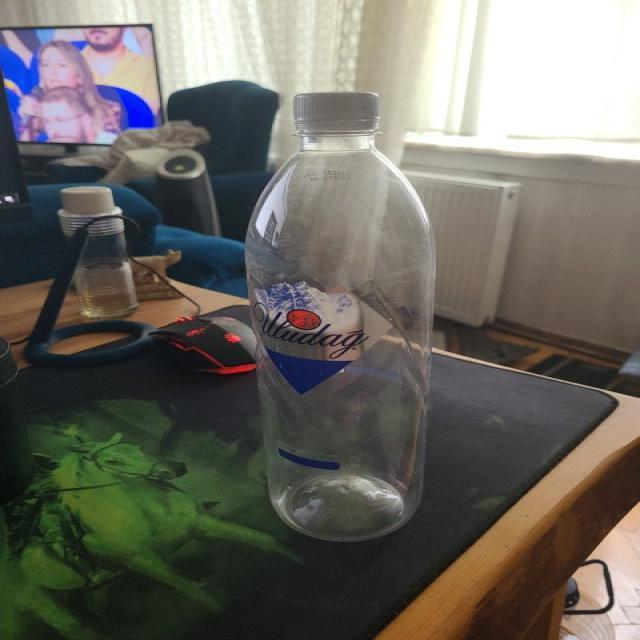bottle: (244, 92, 438, 543), (59, 186, 139, 320)
